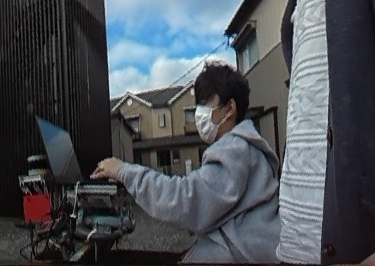person: (171, 63, 274, 266)
